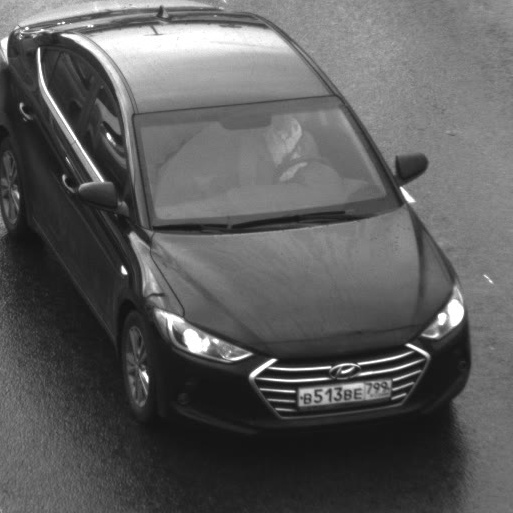plate: (285, 367, 402, 415)
